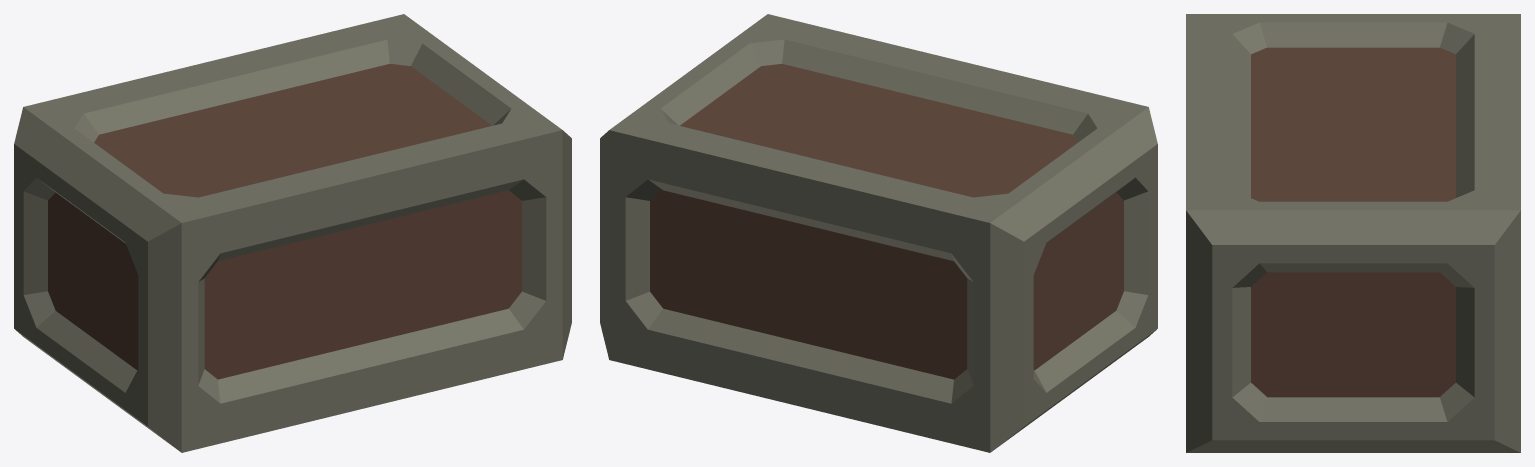
The model's file is LPSciFi_CrateB.fbx.
The picture shows the model from 3 angles, left to right: view 1: azimuth 30°, elevation 25°; view 2: azimuth 150°, elevation 25°; view 3: azimuth 270°, elevation 25°; orthographic projection. The views are drawn at different scales.
Visible parts, largest first — view 1: CrateB; view 2: CrateB; view 3: CrateB.
Part boxes in pixels (x1,y1,x2,y2): CrateB: [14, 14, 571, 452]; CrateB: [600, 14, 1157, 452]; CrateB: [1186, 14, 1520, 452].
Size of the model in its own units: 133 by 69 by 86.27.
